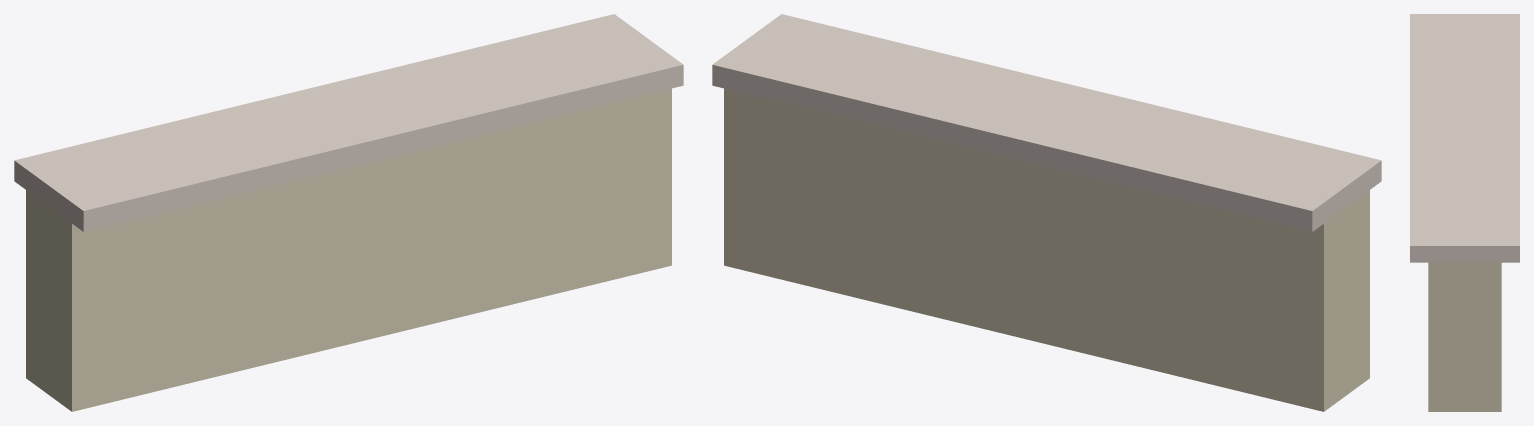
The model's file is roman_wall_half.fbx.
3 views of the same model, side by side, from view 1: azimuth 30°, elevation 25°; view 2: azimuth 150°, elevation 25°; view 3: azimuth 270°, elevation 25° (orthographic). The views are drawn at different scales.
Parts seen in each view (by area): view 1: Cube.047; view 2: Cube.047; view 3: Cube.047.
Boxes of the visible parts, bbox=[...] form: Cube.047: bbox=[14, 14, 683, 411]; Cube.047: bbox=[712, 14, 1381, 411]; Cube.047: bbox=[1410, 14, 1519, 411].
Bounding box in the file's own units: 3 × 1 × 0.6.
